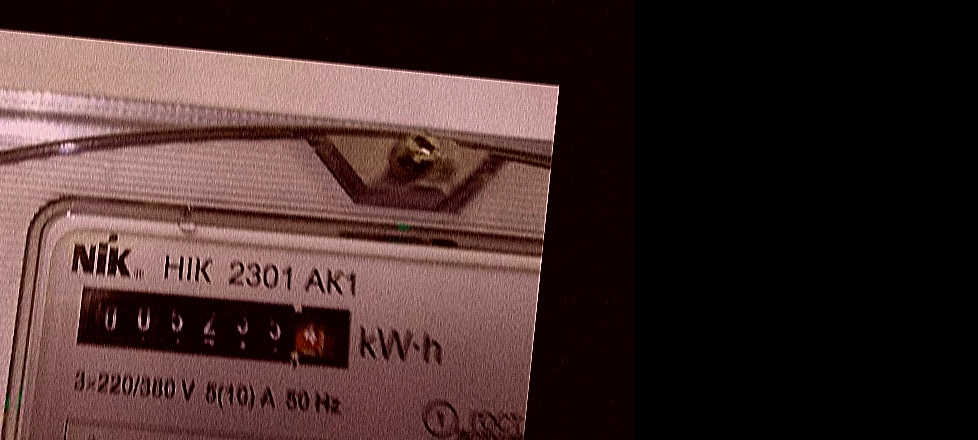0: (132, 299, 155, 334), (100, 299, 121, 332)
2: (198, 302, 222, 338)
3: (230, 304, 257, 339)
4: (299, 310, 324, 348)
5: (264, 306, 289, 344), (166, 300, 188, 335)
screen: (59, 267, 368, 384)
